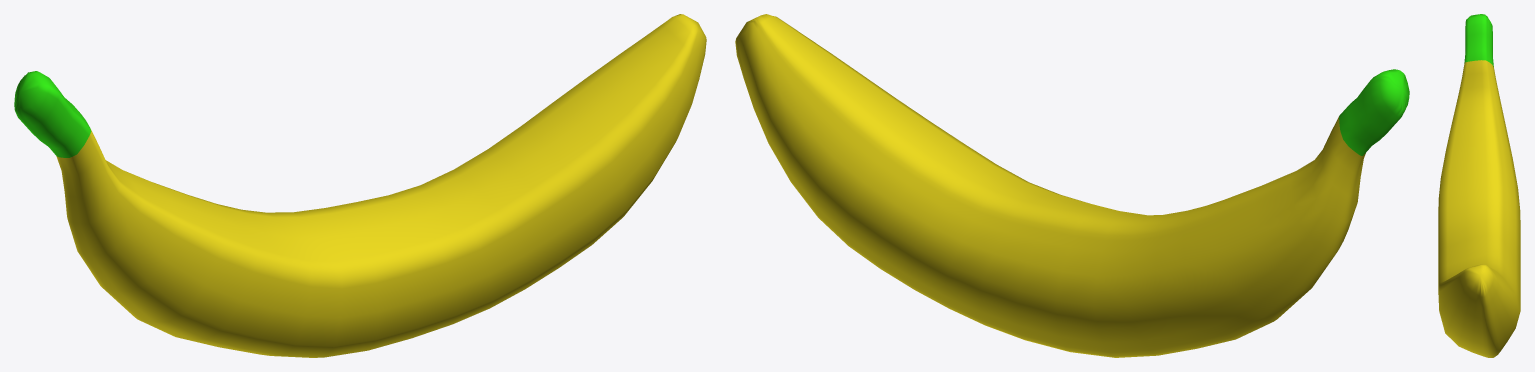
Rendered from pisang.fbx.
3 renders of one model, left to right at view 1: azimuth 30°, elevation 25°; view 2: azimuth 150°, elevation 25°; view 3: azimuth 270°, elevation 25°, orthographic. The views are drawn at different scales.
Parts seen in each view (by area): view 1: Cylinder; view 2: Cylinder; view 3: Cylinder.
Part boxes in pixels (box(x1,y1,x2,y2)): Cylinder: box(14, 14, 706, 357); Cylinder: box(735, 14, 1409, 357); Cylinder: box(1438, 14, 1520, 357).
Size of the model in its own units: 1240 by 616 by 213.
